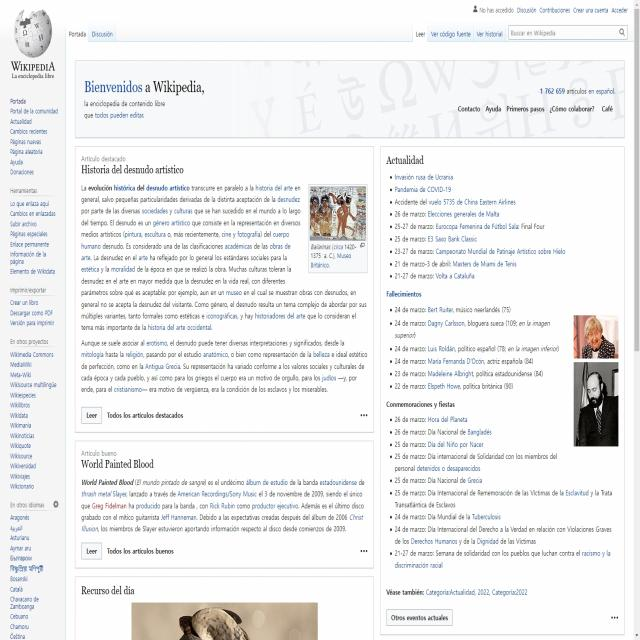menu-bar: (470, 1, 629, 17)
menu-panel: (408, 24, 504, 44)
search: (507, 21, 627, 41)
